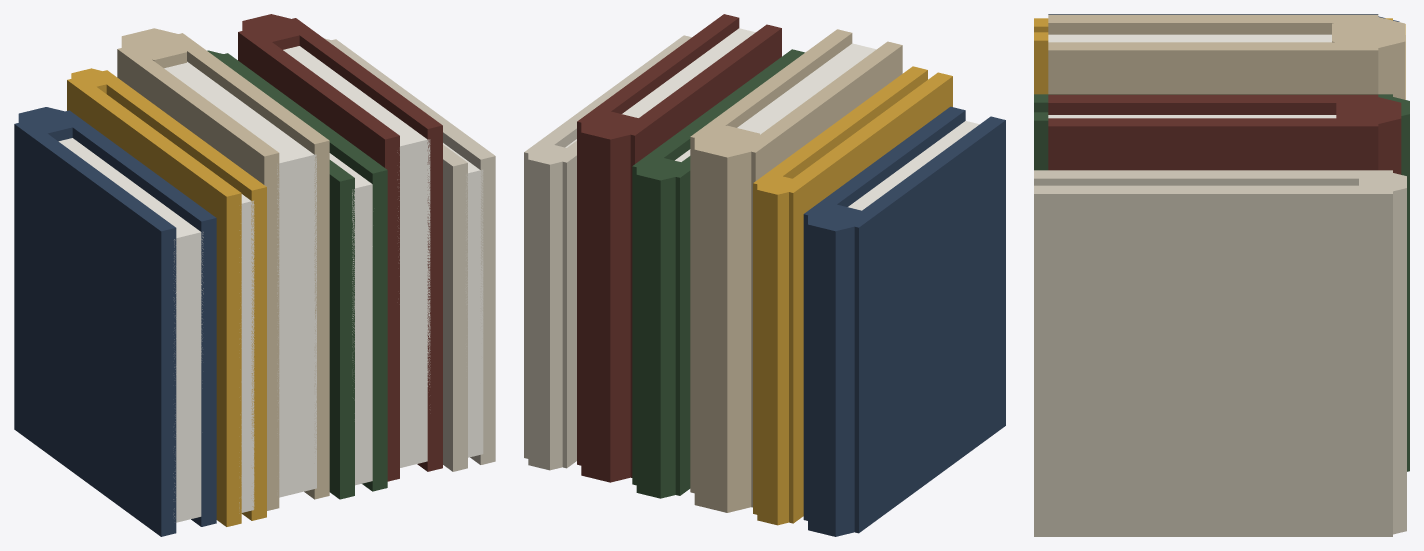
File: SM_LPI_Decor_BookRow_01.fbx
The picture shows the model from 3 angles, left to right: view 1: azimuth 30°, elevation 25°; view 2: azimuth 150°, elevation 25°; view 3: azimuth 270°, elevation 25°; orthographic projection. The views are drawn at different scales.
Parts seen in each view (by area): view 1: SM_LPI_Decor_BookRow_01; view 2: SM_LPI_Decor_BookRow_01; view 3: SM_LPI_Decor_BookRow_01.
Part boxes in pixels (box(x1,y1,x2,y2)): SM_LPI_Decor_BookRow_01: box(14, 14, 495, 536); SM_LPI_Decor_BookRow_01: box(524, 14, 1005, 536); SM_LPI_Decor_BookRow_01: box(1034, 14, 1409, 536).
Size of the model in its own units: 0.261 by 0.27 by 0.2305.
